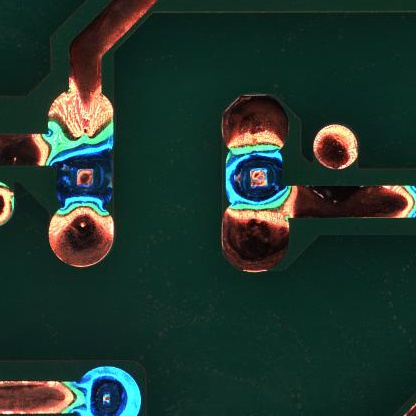spot: (51, 139, 114, 211), (223, 146, 286, 209), (72, 366, 140, 416)
